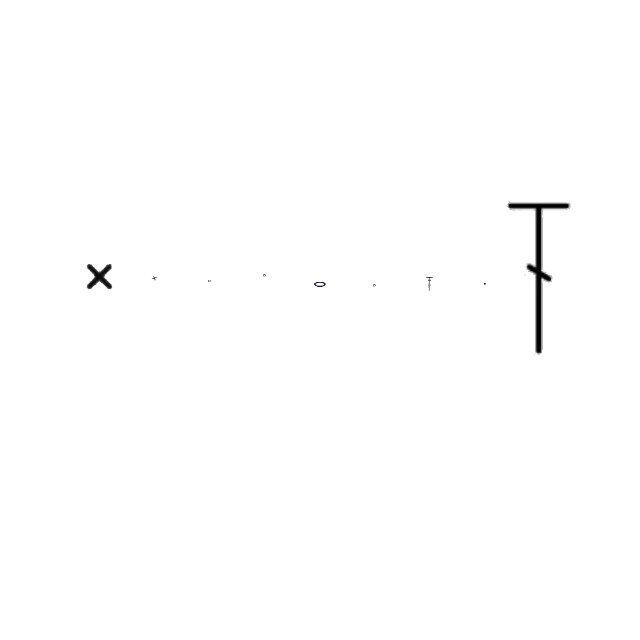chain: (313, 279, 327, 289), (208, 280, 212, 282), (264, 274, 266, 278), (374, 284, 376, 288), (484, 283, 486, 285)
double: (84, 260, 116, 292), (152, 275, 158, 281)
double treble: (506, 196, 574, 360), (426, 277, 434, 291)
